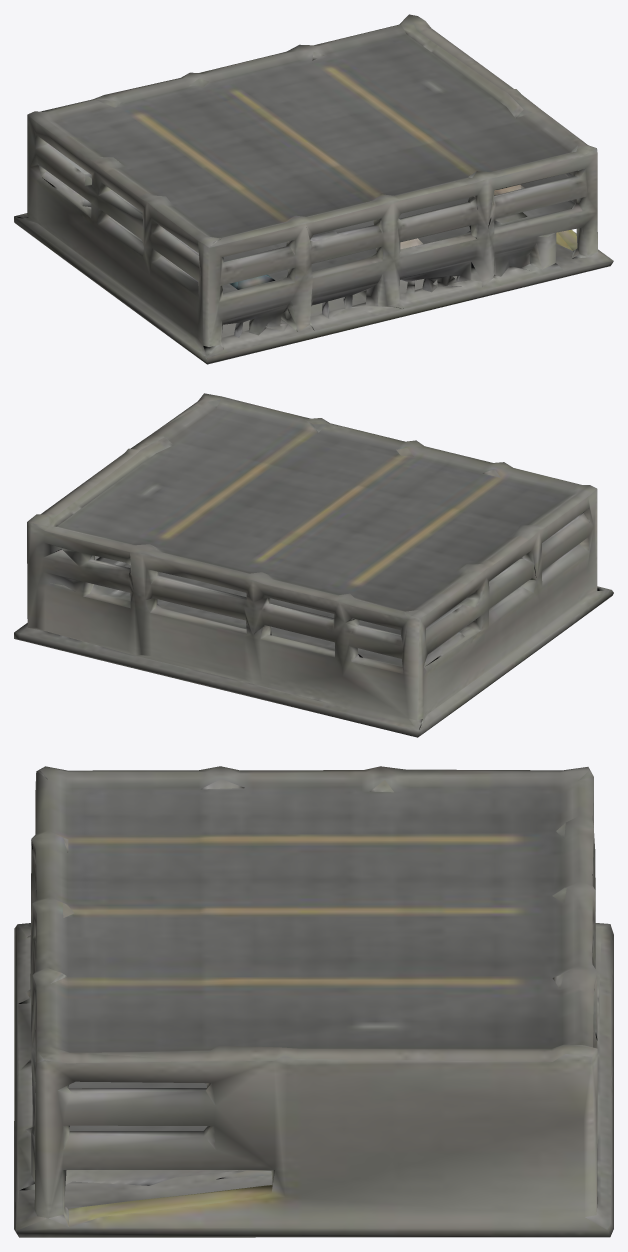
The model's file is gen_low2_garage_retail.glb.
The picture shows the model from 3 angles, top to bottom: view 1: azimuth 30°, elevation 25°; view 2: azimuth 150°, elevation 25°; view 3: azimuth 270°, elevation 25°; orthographic projection. The views are drawn at different scales.
Visible parts, largest first — view 1: gen_low2_garage_retail; view 2: gen_low2_garage_retail; view 3: gen_low2_garage_retail.
Part boxes in pixels (x1,y1,x2,y2): gen_low2_garage_retail: (14, 14, 613, 364); gen_low2_garage_retail: (14, 393, 613, 737); gen_low2_garage_retail: (14, 766, 613, 1237).
Size of the model in its own units: 40 by 11 by 33.15.
Materials: 1 (1 with a texture image).
